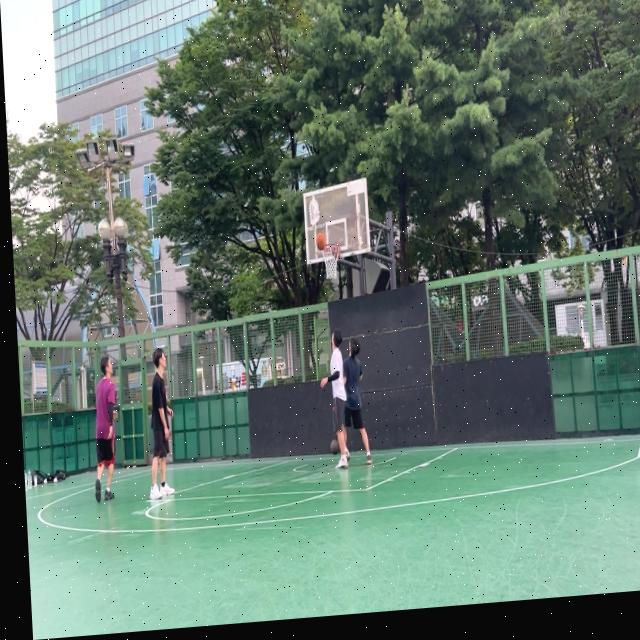basketball: (315, 232, 327, 250), (330, 439, 340, 456)
hoop: (320, 242, 342, 281)
